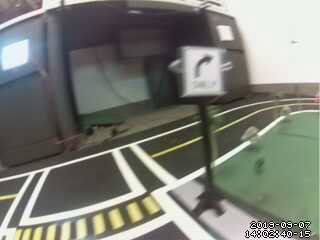Right_only_sign: (182, 45, 227, 95)
